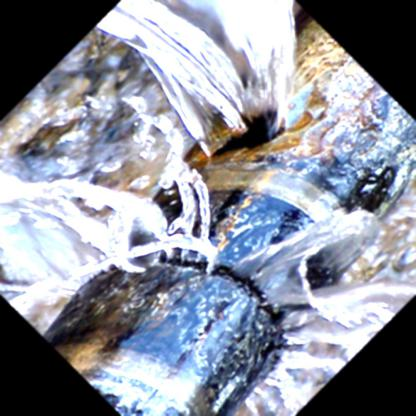burst: (51, 219, 352, 357), (185, 82, 314, 167)
